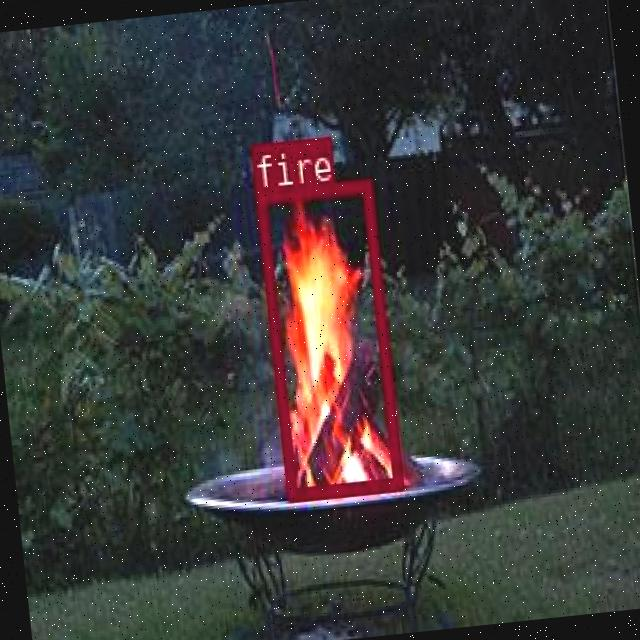fire: (254, 176, 402, 498)
